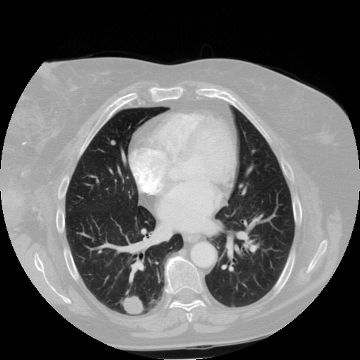nodule: (110, 139, 116, 145)
